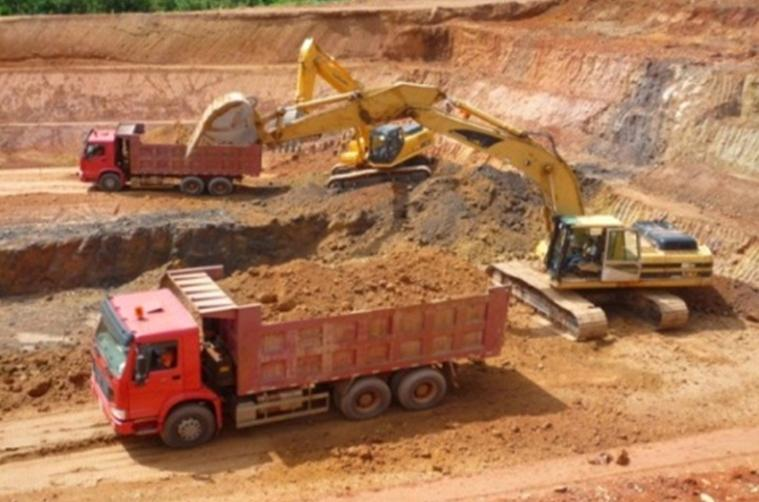ExcavationMachinery: (179, 81, 716, 344), (88, 257, 513, 447), (279, 37, 437, 193), (76, 122, 264, 199)
